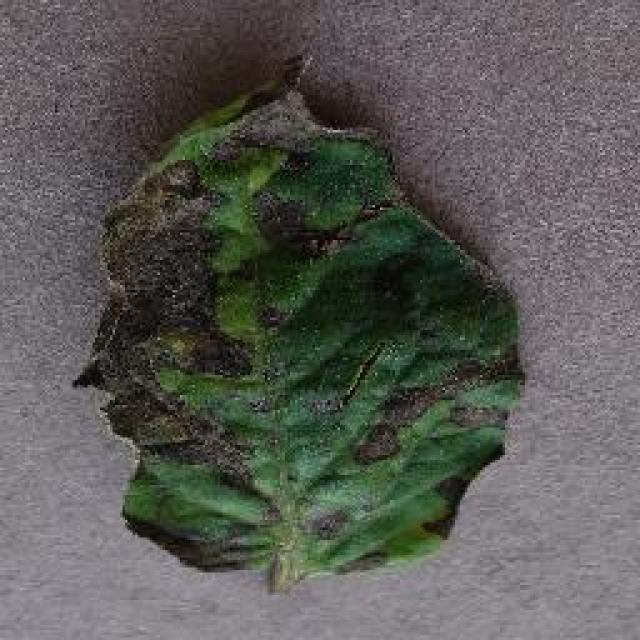Tomato___Early_blight: (64, 48, 525, 596)
